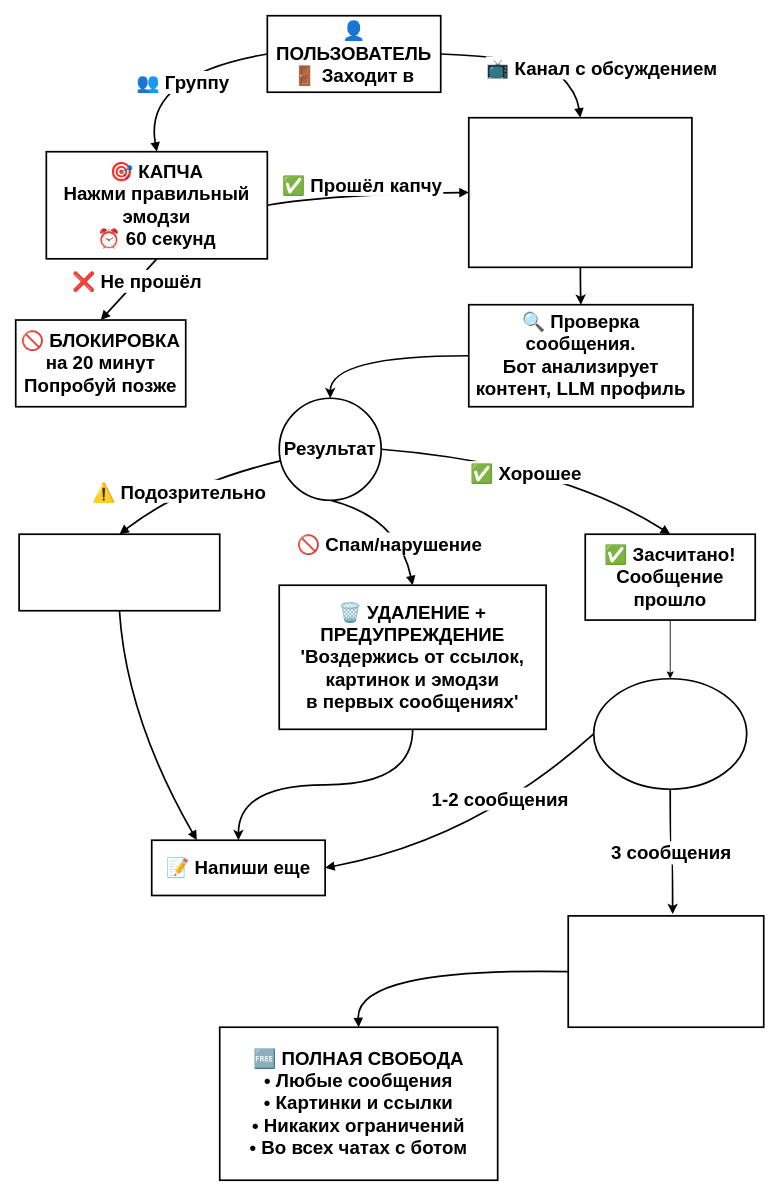
Image size: 779x1195. Some labels were removed from this diagram. The shapes that lost their labels are listed below. From the top down, each one's box as (x1, y1, x2, y2) in pixels, then its label:
(468, 116, 692, 268): 👋 ДОБРО ПОЖАЛОВАТЬ! Напиши 3 простых сообщения без ссылок и картинок
(18, 533, 220, 611): 👨‍💼 Ручная проверка Админы посмотрят
(592, 677, 747, 790): Сколько хороших сообщений?
(567, 915, 764, 1028): 🎉 ОДОБРЕН! Теперь можешь писать всё что угодно
